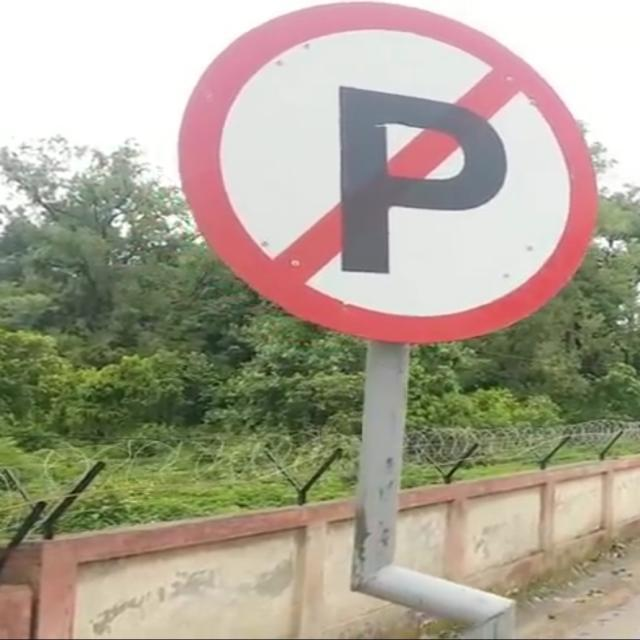no parking: (180, 17, 599, 342)
